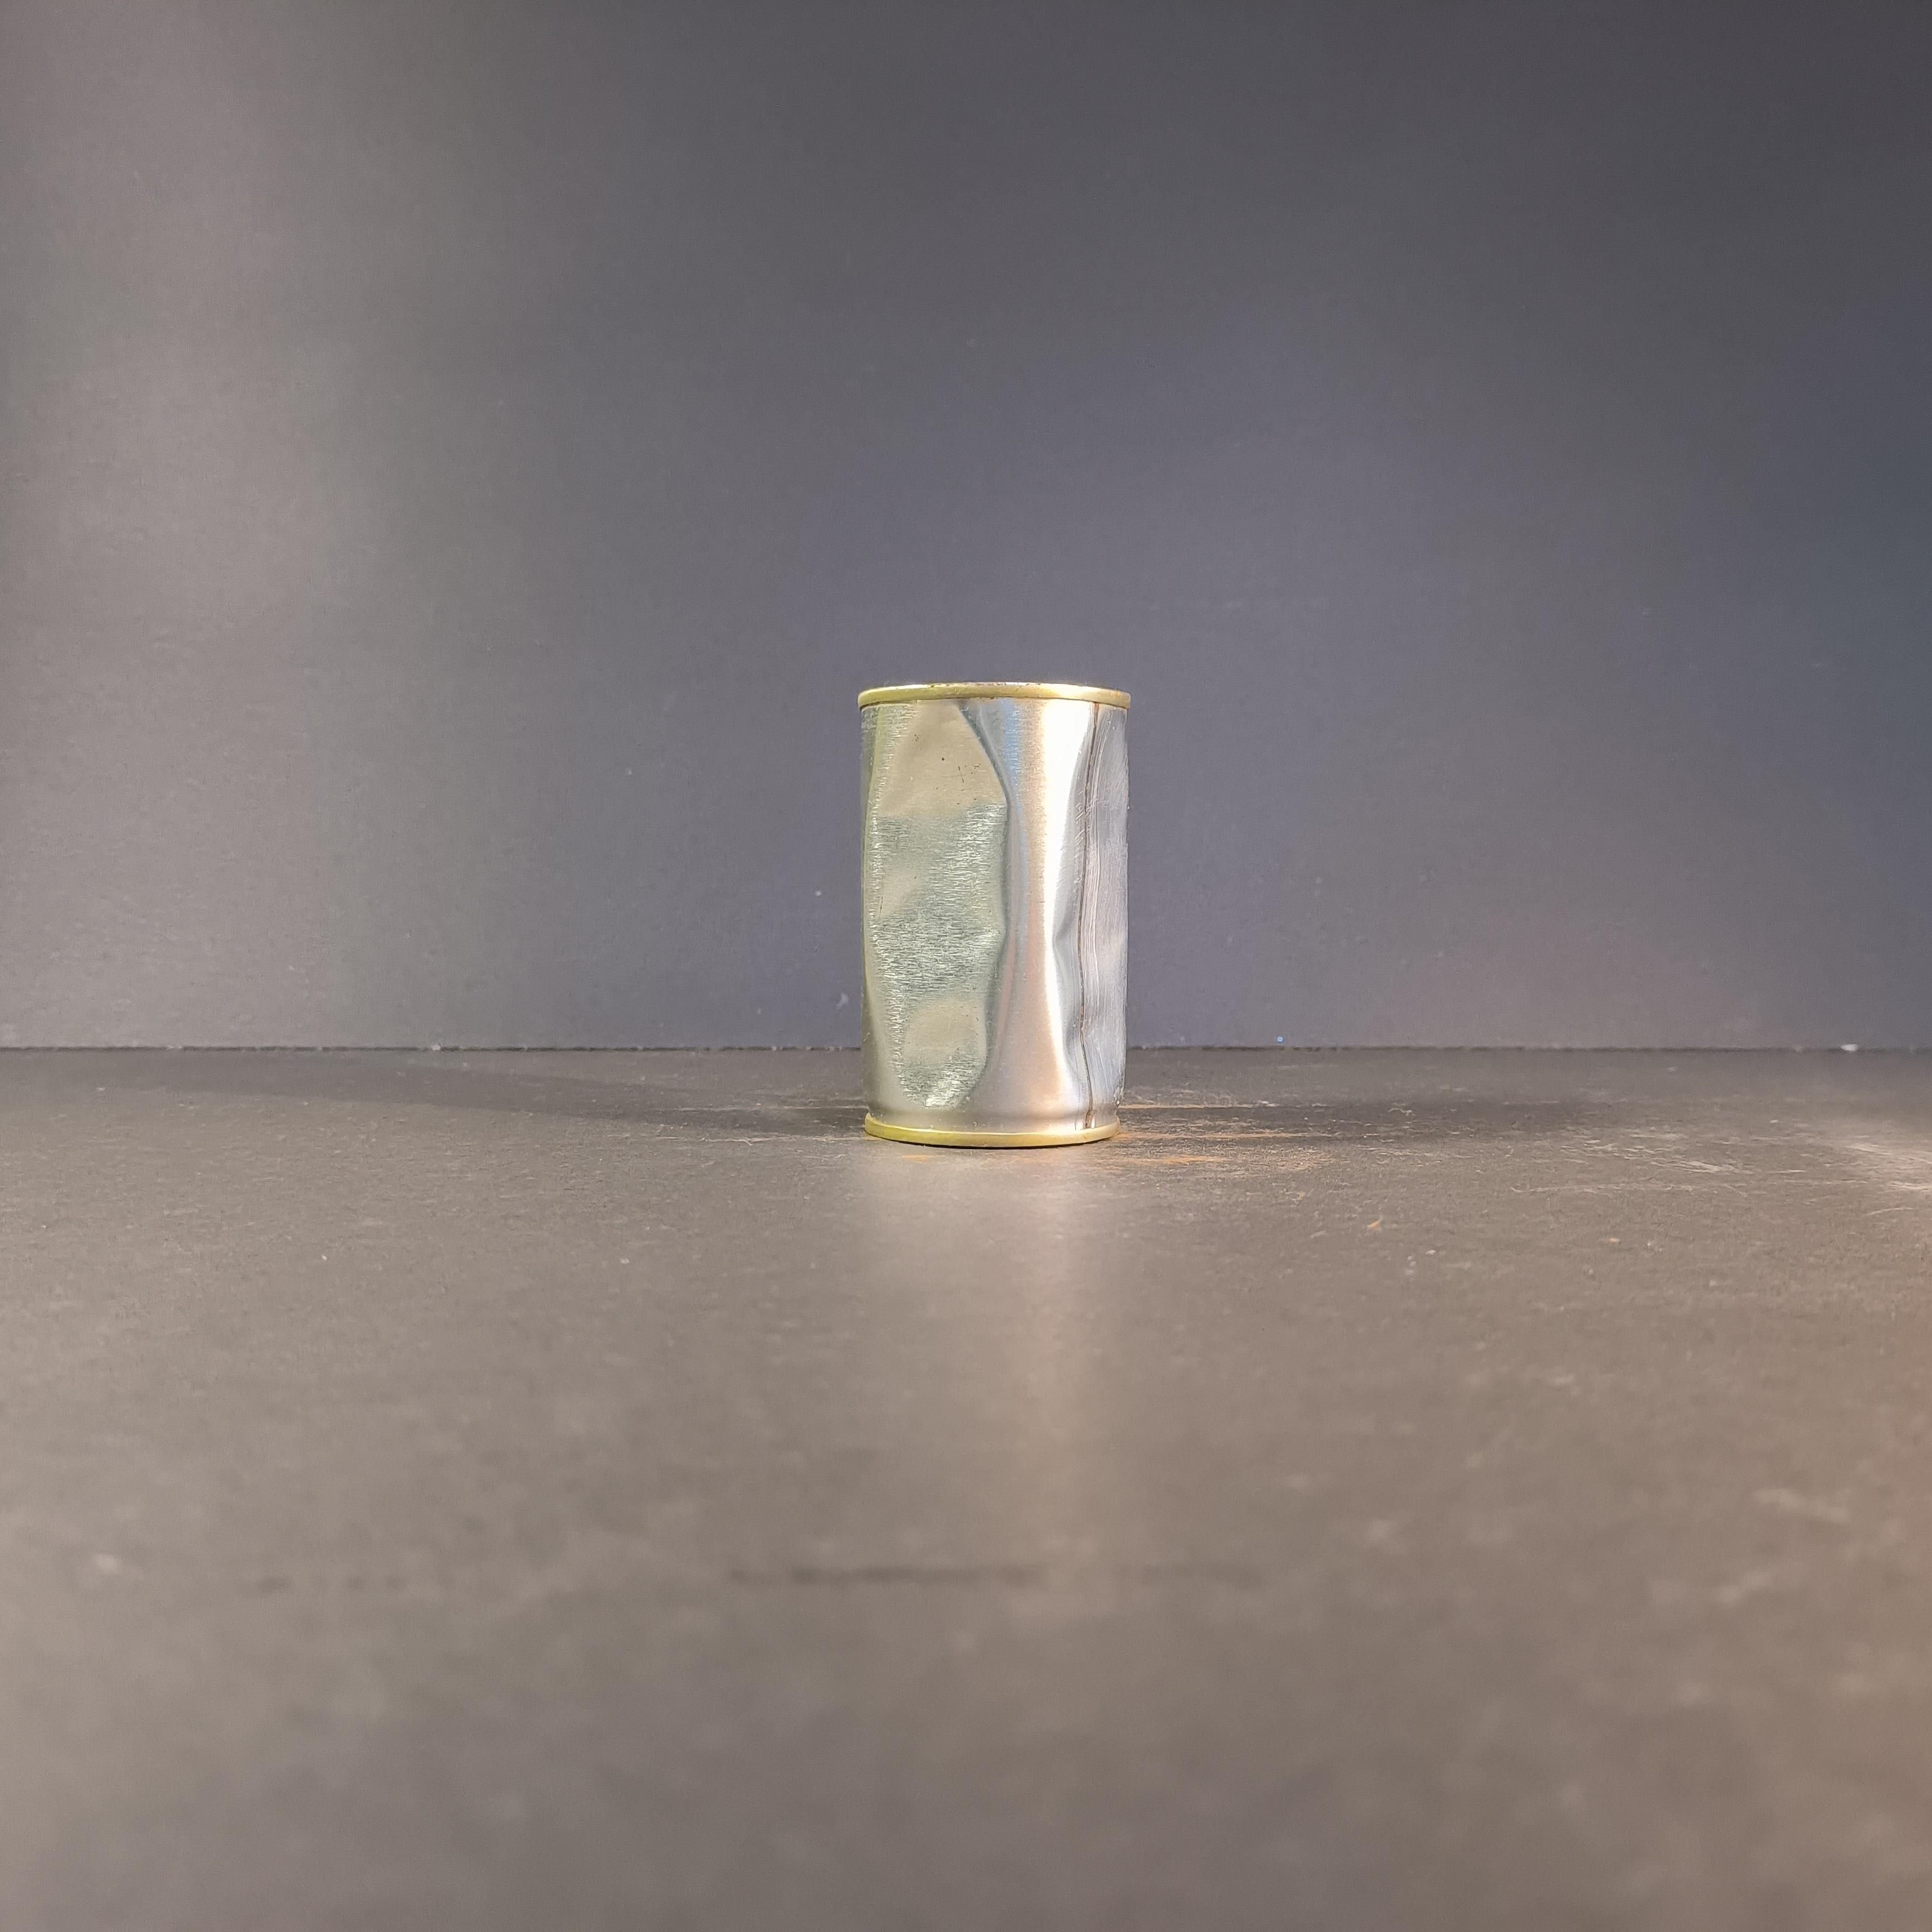Dented: (840, 656, 1155, 1162)
